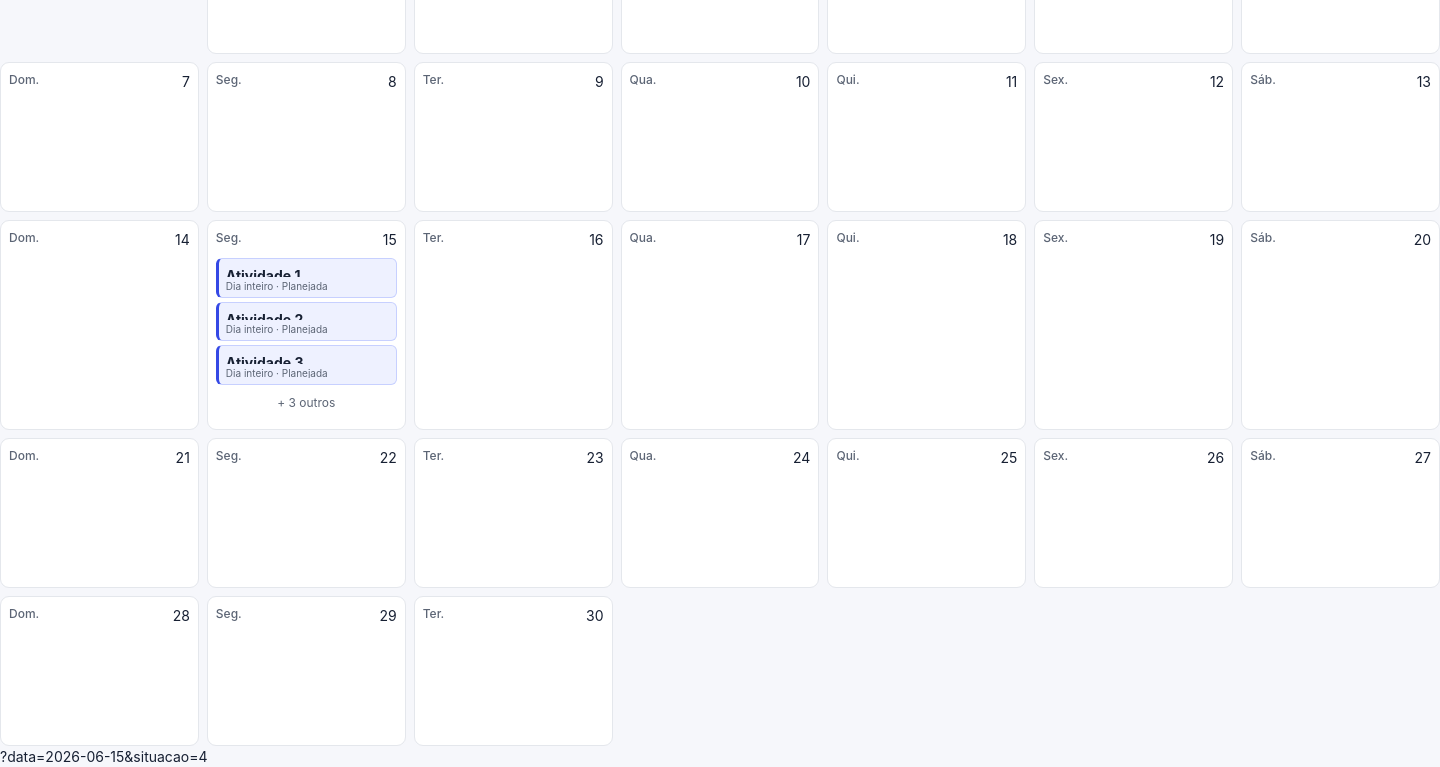
Test case: Agenda e operação › restaura visualização e filtros e limita eventos na célula mensal
(page scrolled)
What coordinates should you click on to do the following:
click the button "+ 3 outros"
I would click on:
 (306, 403)
Its box is x1=216 y1=385 x2=397 y2=421.
(page scrolled)
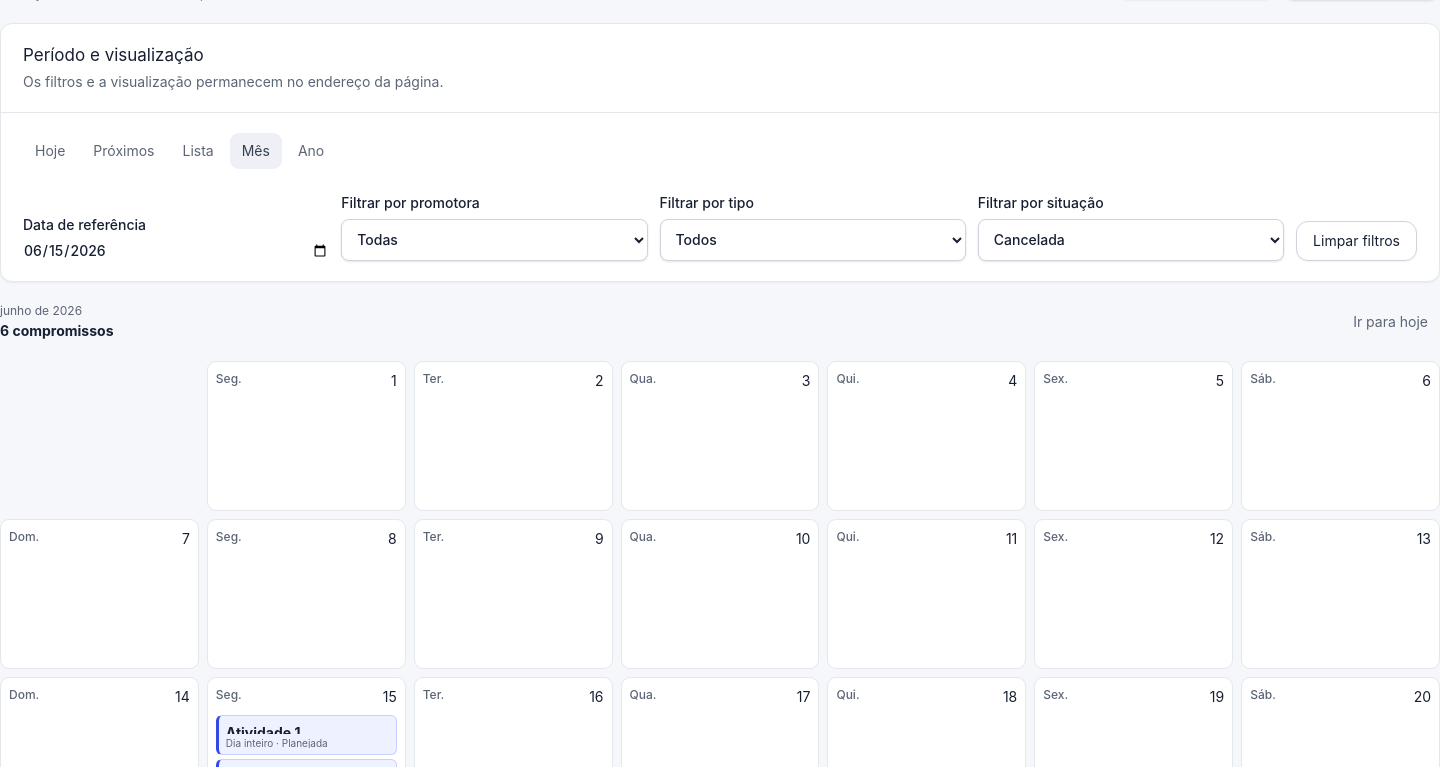
What coordinates should you click on to do the following:
click the button "Ano"
I would click on:
 (311, 151)
Its box is x1=286 y1=133 x2=336 y2=169.
(page scrolled)
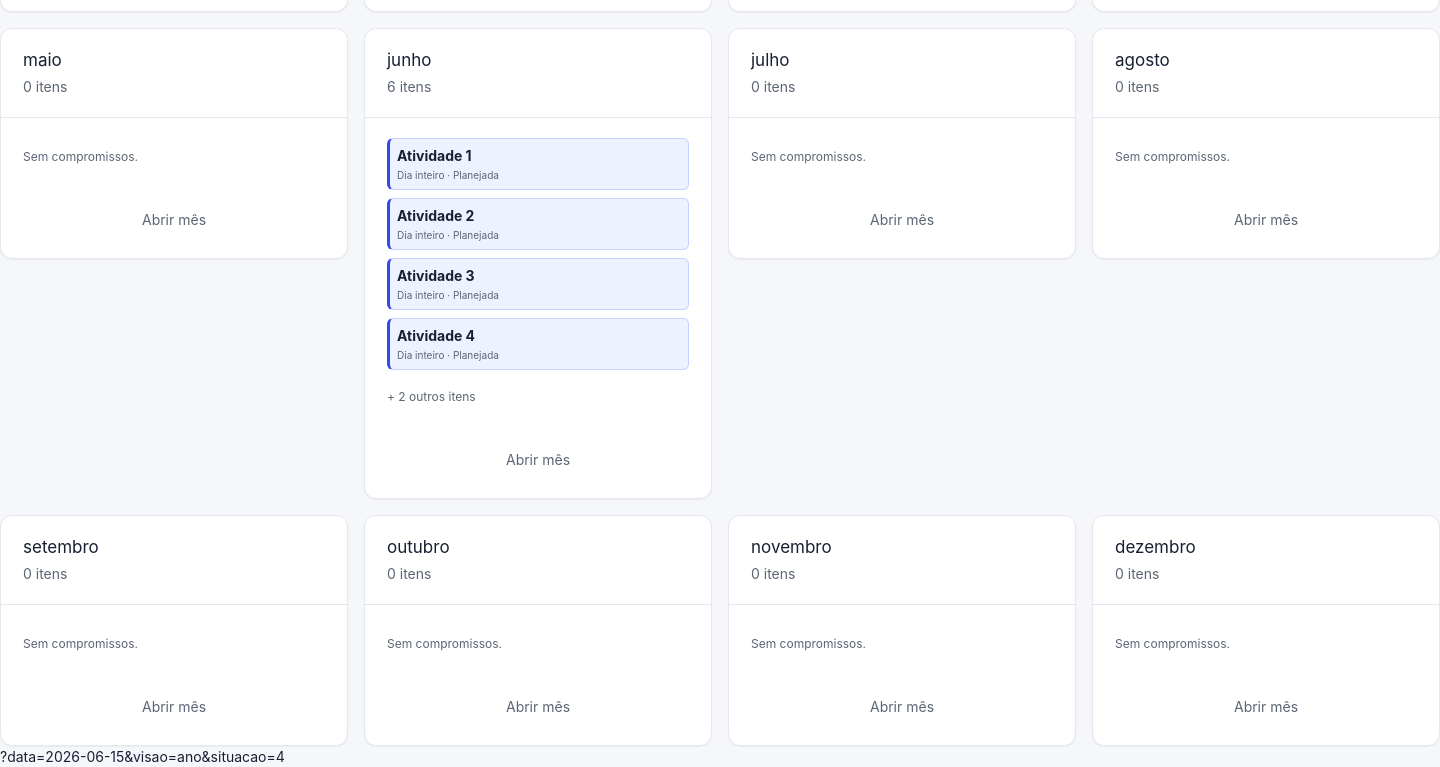
Expected: the text with test id "endereco" shows "visao=ano", x1=0 y1=748 x2=285 y2=765
